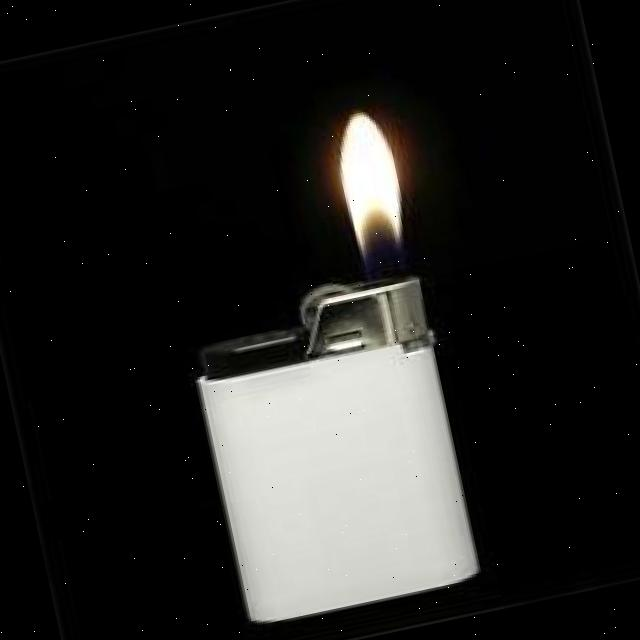fire: (328, 105, 414, 258)
